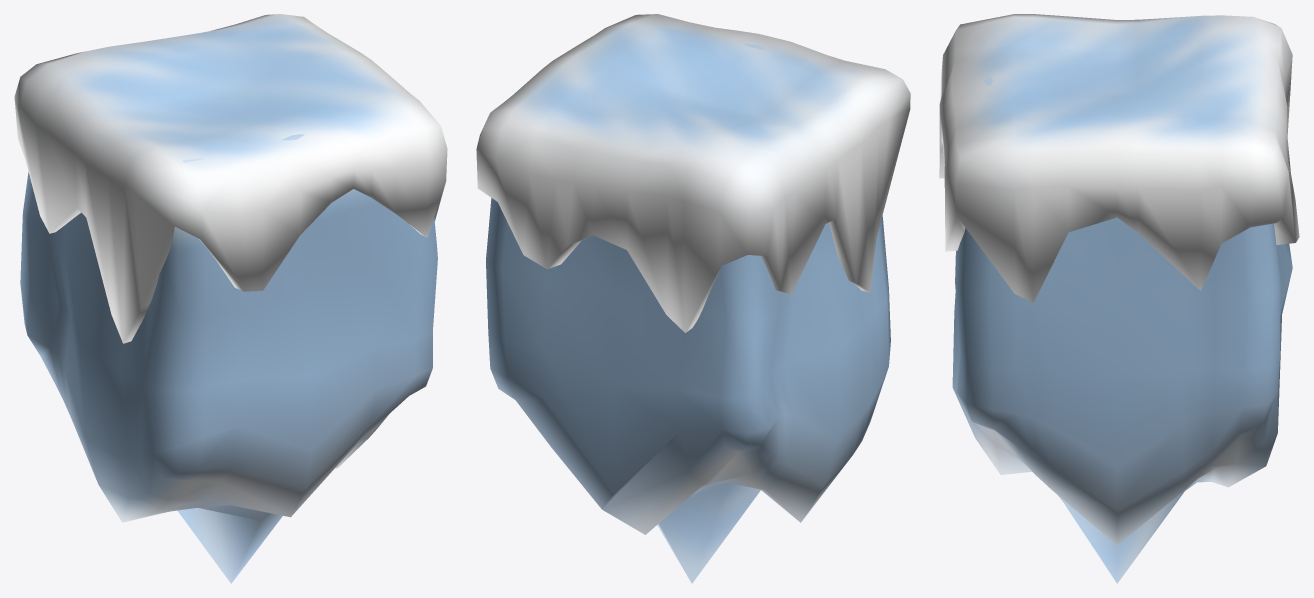
Rendered from ice_2.fbx.
3 views of the same model, side by side, from view 1: azimuth 30°, elevation 25°; view 2: azimuth 150°, elevation 25°; view 3: azimuth 270°, elevation 25° (orthographic). The views are drawn at different scales.
Visible parts, largest first — view 1: ice_2; view 2: ice_2; view 3: ice_2.
Boxes of the visible parts, x1,y1,x2,y2 form: ice_2: (14, 14, 447, 583); ice_2: (476, 14, 910, 583); ice_2: (939, 14, 1299, 583).
Bounding box in the file's own units: 1187 × 1860 × 1180.
